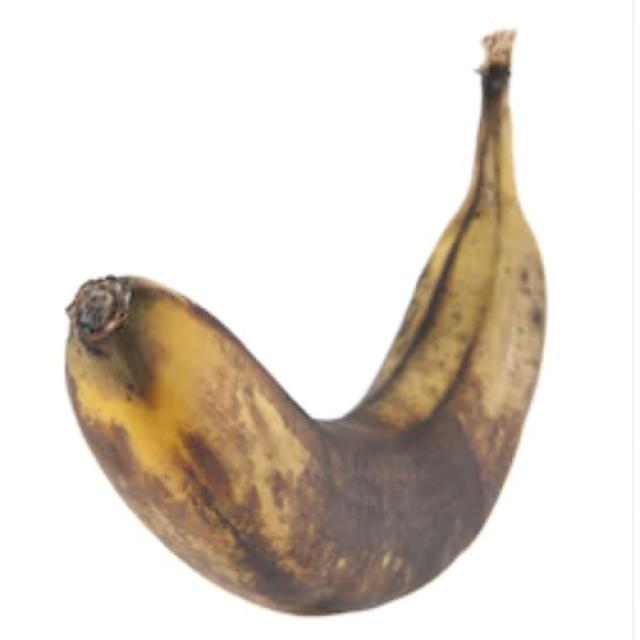rotten-banana: (61, 25, 548, 616)
